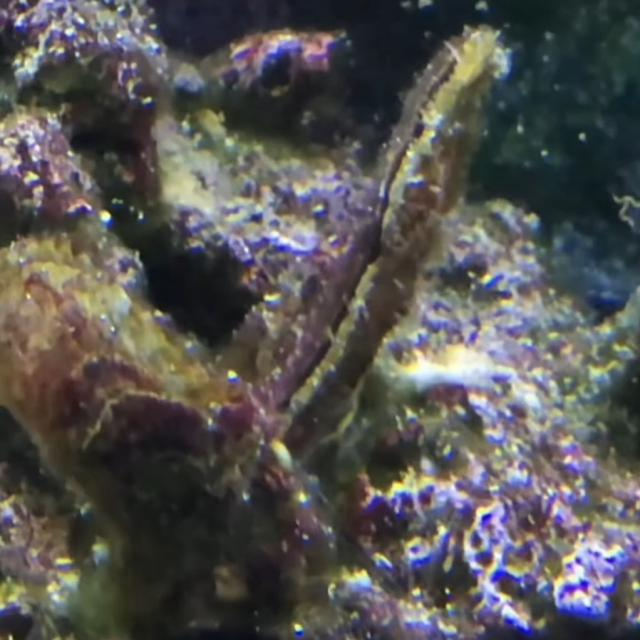Oyster-Closed: (220, 26, 508, 463)
Oyster-Indeterminate: (0, 239, 300, 593)
